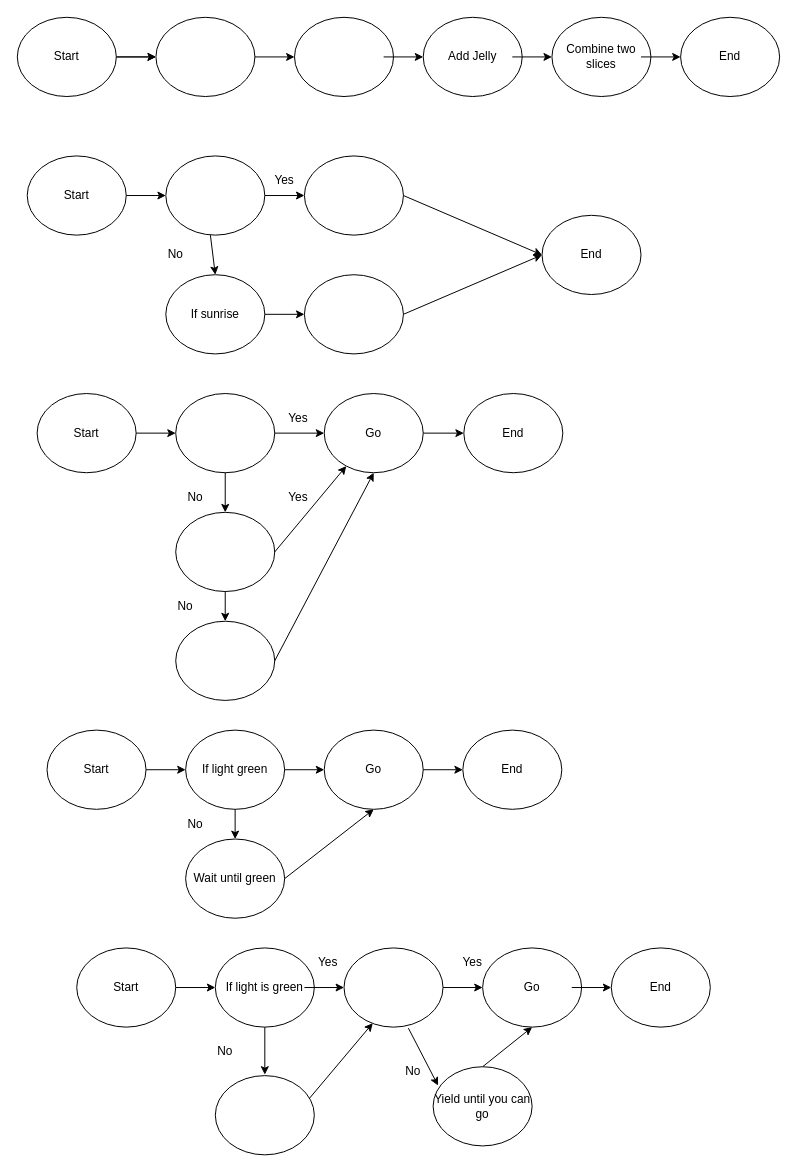
Some shapes in this 797 by 1172 pixel diagram are drawn without their labels. Each missing label, with the box of its shape:
Add peanut butter: (294, 16, 394, 97)
Get Bread: (155, 16, 255, 97)
If Sunset: (165, 155, 265, 235)
If you have right of way: (175, 511, 275, 592)
If you see no cars: (175, 393, 275, 473)
See if you can turn left: (343, 947, 443, 1027)
Turn off lamp: (303, 274, 403, 354)
Turn on the lamp: (303, 155, 403, 235)
Wait until light is green: (214, 1075, 314, 1155)
Wait until you have right of way: (175, 620, 275, 700)
